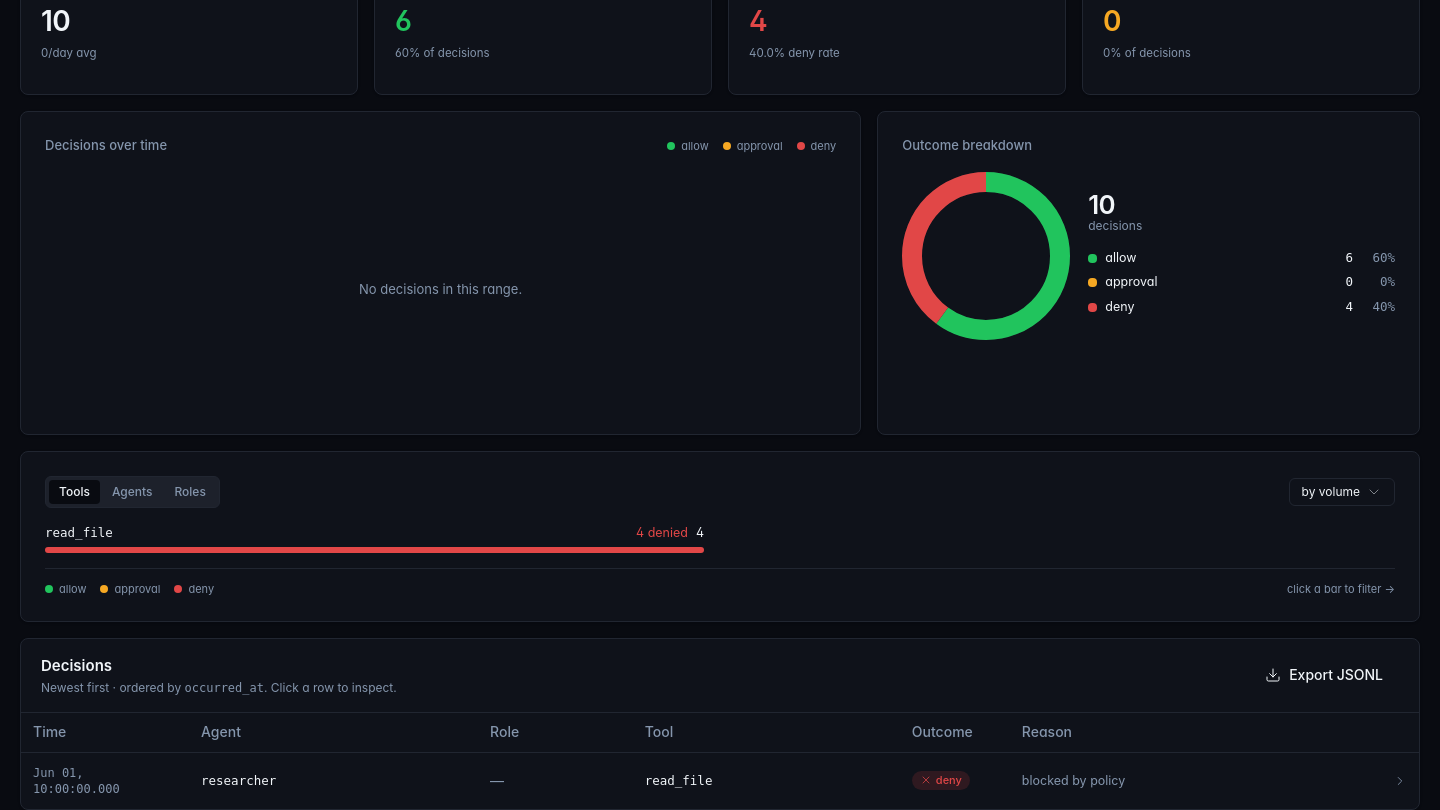
AuditPage › same-session list drills into the sibling event
(page scrolled)
Click the text "blocked by policy": click(1074, 781) [1010, 752, 1381, 809]
(page scrolled)
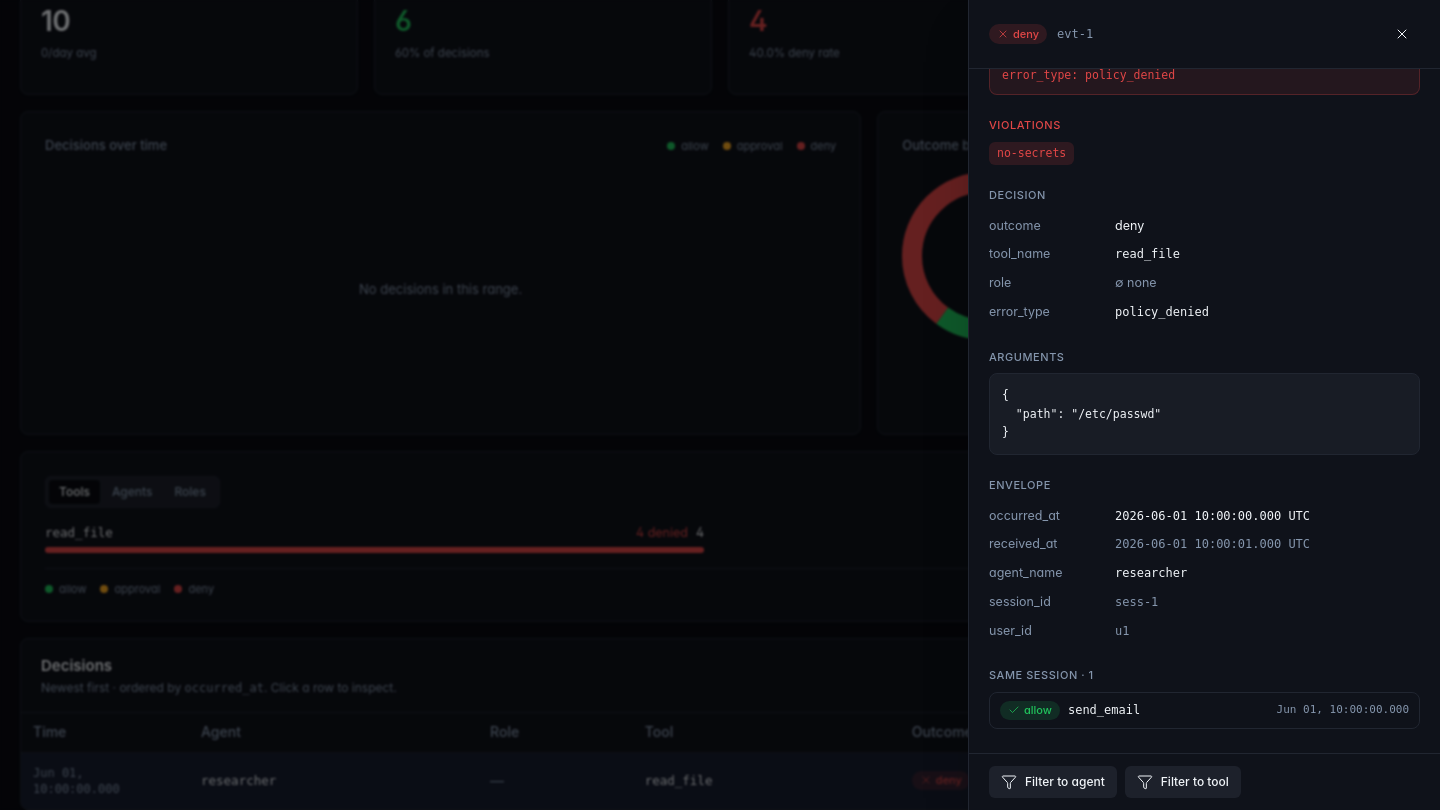
Expected: the text "evt-1" is shown, [1057, 27, 1093, 41]
Click the text "send_email": click(1104, 710) [1068, 703, 1140, 717]
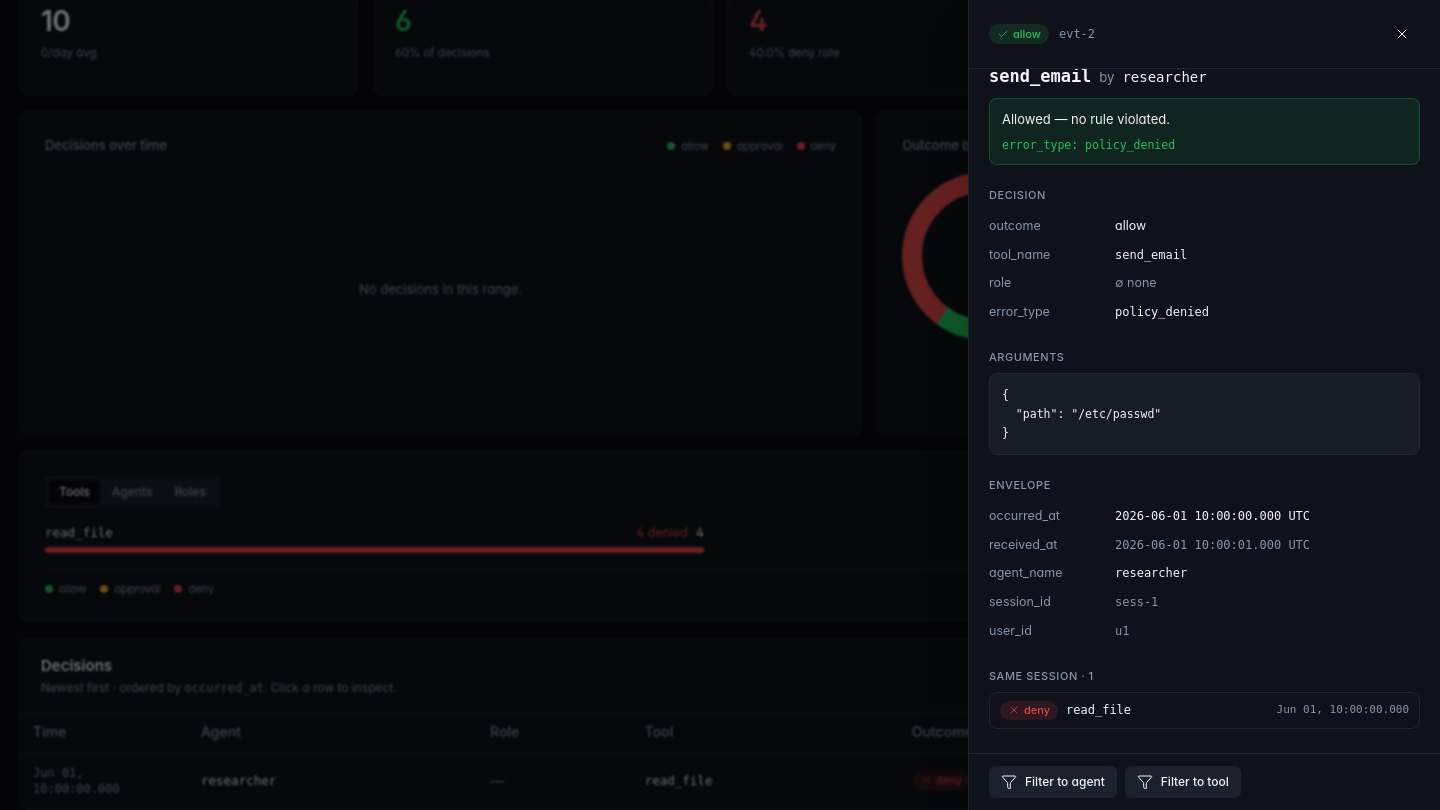
Expected: the text "evt-2" is shown, [1059, 27, 1095, 41]
Expected: the text "evt-1" is gone
